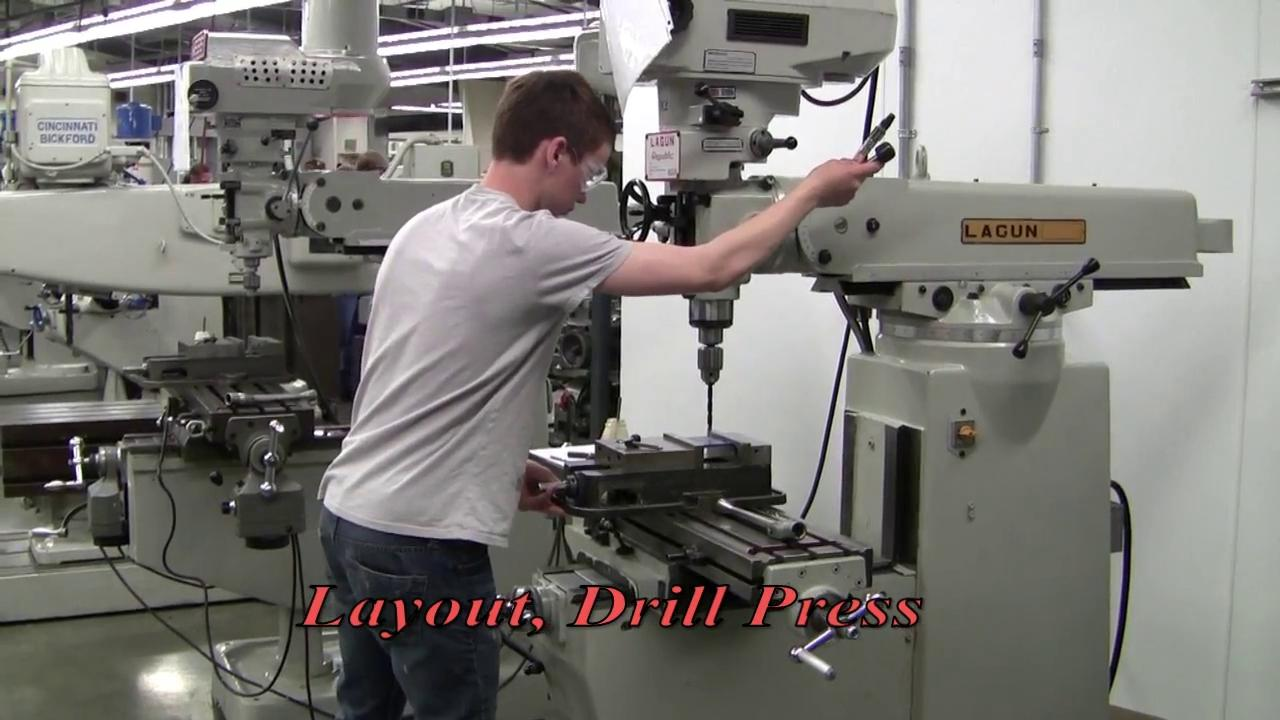victim: (315, 58, 883, 718)
